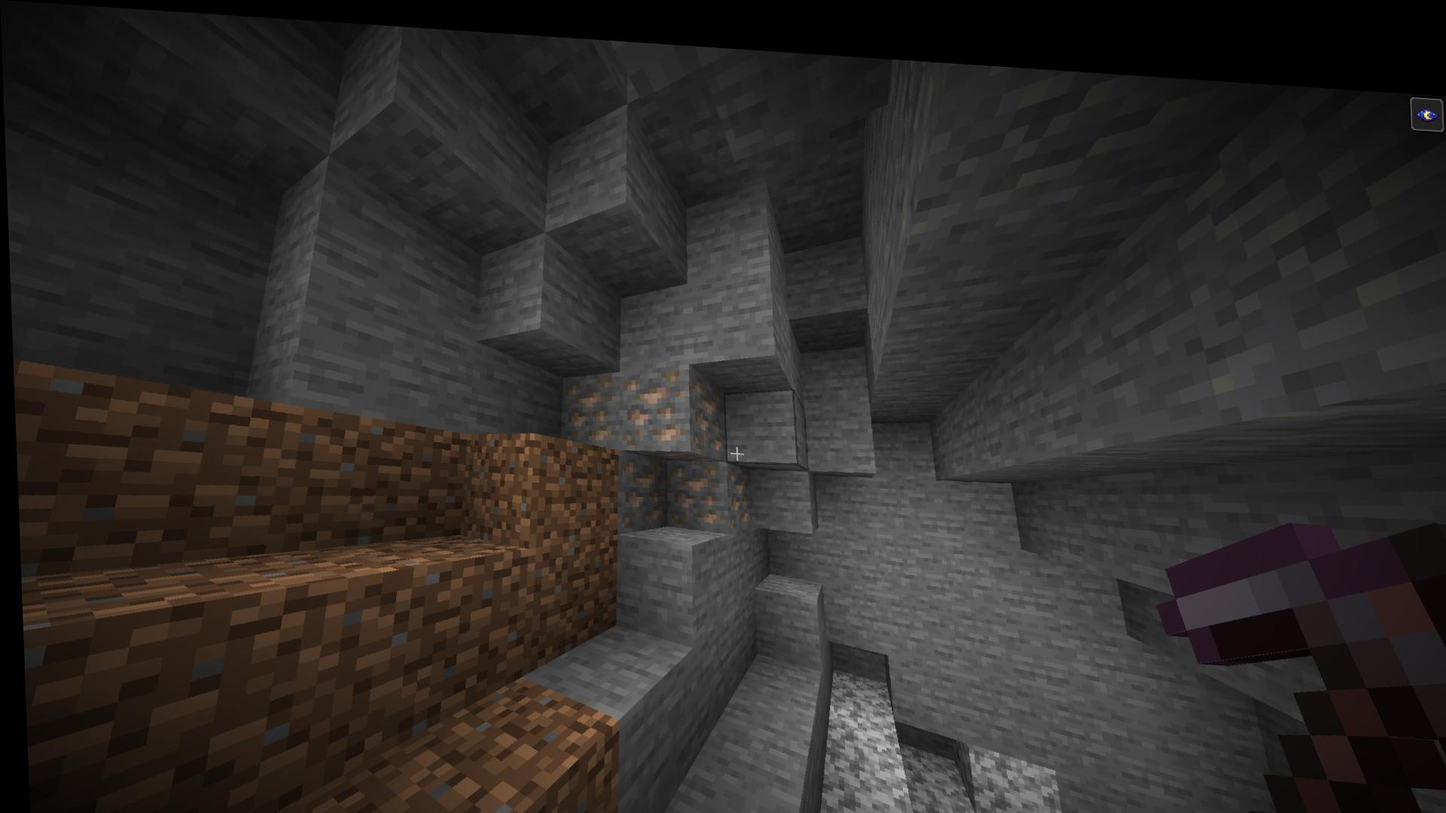iron ore: (617, 354, 725, 449), (660, 449, 751, 524), (558, 362, 621, 438), (614, 443, 664, 526)
